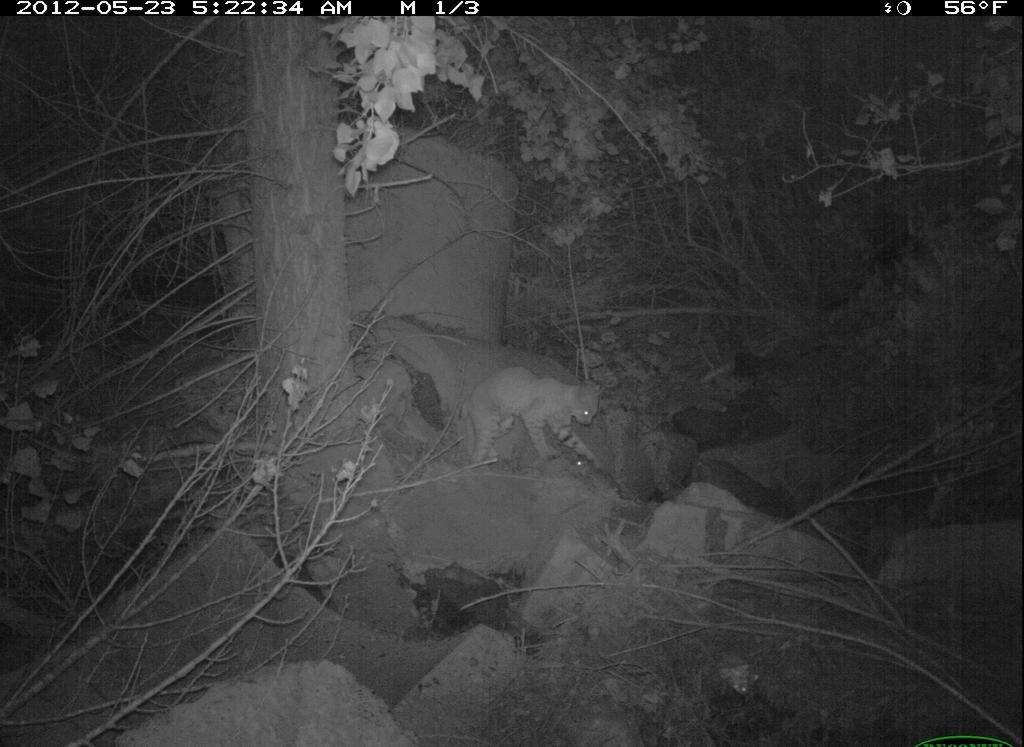bobcat: (456, 364, 606, 472)
